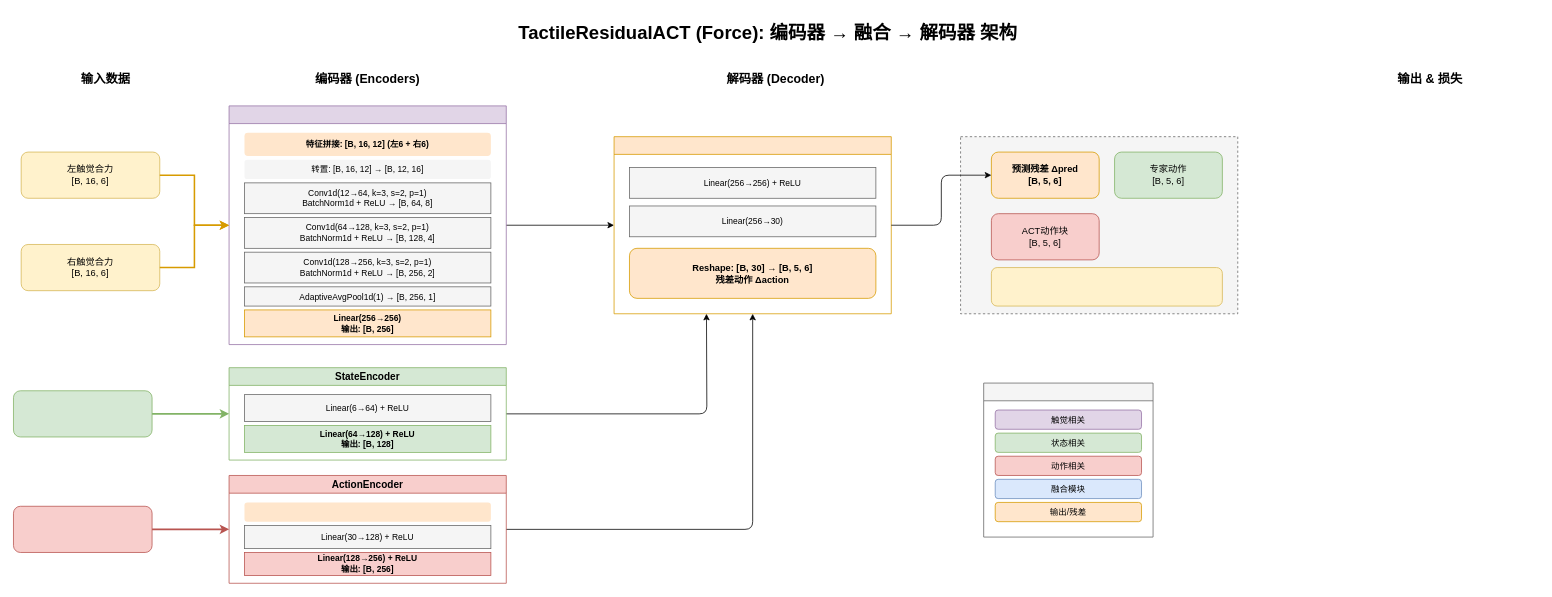
Image size: 1552x597. Some labels were removed from this diagram. Here are the shapes that lost their labels. From the top down, the box of each, then its label:
(228, 105, 506, 345): TactileForceEncoder
(613, 136, 891, 314): ResidualDecoder
(991, 267, 1222, 306): 目标残差: Δtarget = 专家动作 - ACT动作 损失函数: Loss = MSE(Δpred, Δtarget)
(13, 390, 152, 437): 机器人状态 [B, 6]
(983, 382, 1153, 537): 图例
(13, 506, 152, 552): ACT 动作块 [B, 5, 6]
(244, 502, 490, 521): Reshape: [B, 5, 6] → [B, 30]
